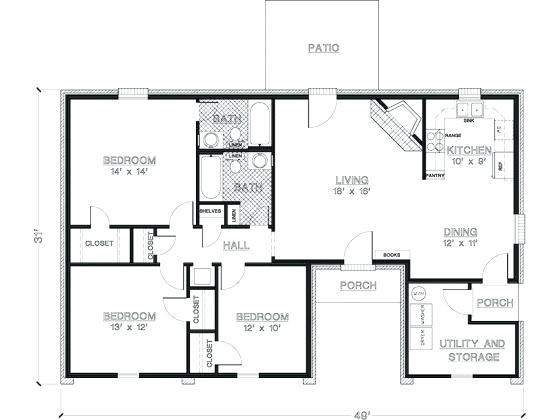door: (303, 102, 339, 132), (342, 227, 377, 256), (436, 286, 466, 319), (165, 195, 194, 223), (220, 341, 250, 368), (479, 249, 510, 273), (159, 295, 183, 325), (219, 268, 247, 293), (158, 270, 186, 292), (85, 203, 111, 224), (160, 233, 180, 255)
